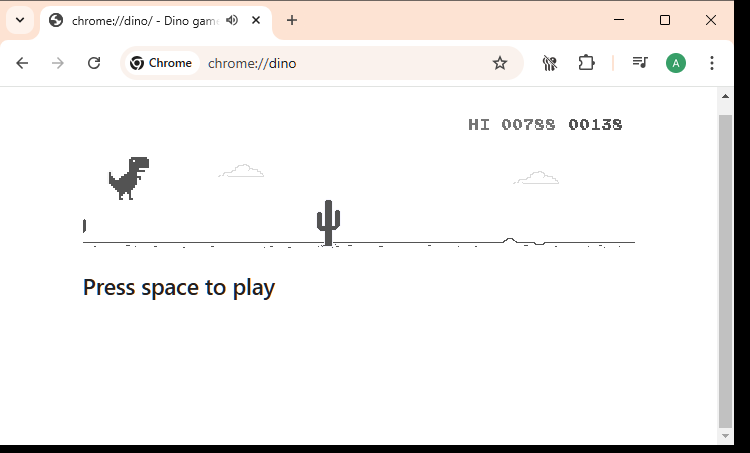cactus: (315, 199, 341, 247)
dino: (108, 155, 150, 201)
